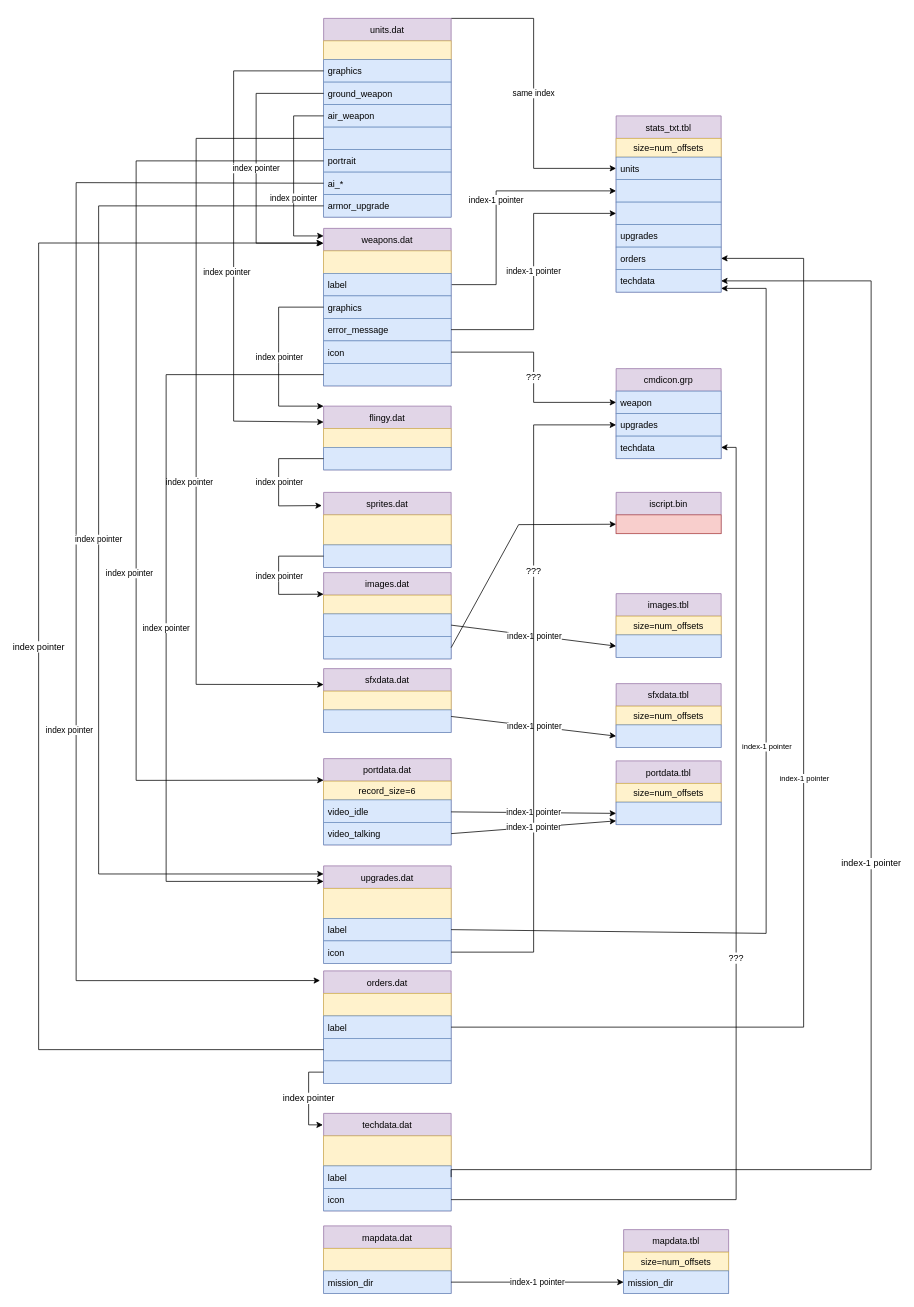
Image size: 914x1307. Some labels were removed from this diagram. Each missing label, with the centre of its shape:
"(read iscript doc!)" belongs at pixel 668 524.
"*_sound_*" belongs at pixel 387 138.
"damage_upgrade" belongs at pixel 387 374.
"energy" belongs at pixel 387 1071.
"error_messages" belongs at pixel 668 213.
"grp" belongs at pixel 387 624.
"image_file" belongs at pixel 387 555.
"images" belongs at pixel 668 645.
"iscript" belongs at pixel 387 647.
"portrait_name" belongs at pixel 668 813.
"record_size=15" belongs at pixel 387 437.
"record_size=18 record_size_Broodwar=19" belongs at pixel 387 1150.
"record_size=20 record_size_broodwar=21" belongs at pixel 387 903.
"record_size=22" belongs at pixel 387 1004.
"record_size=38" belongs at pixel 387 604.
"record_size=42" belongs at pixel 387 261.
"record_size=9" belongs at pixel 387 700.
"record_size_first_130=4 record_size_rest=7" belongs at pixel 387 529.
"size=eos" belongs at pixel 387 1259.
"sound_file" belongs at pixel 668 735.
"sound_file (0=none)" belongs at pixel 387 720.
"sprite" belongs at pixel 387 458.
"targeting" belongs at pixel 387 1049.
"weapons" belongs at pixel 668 190.
